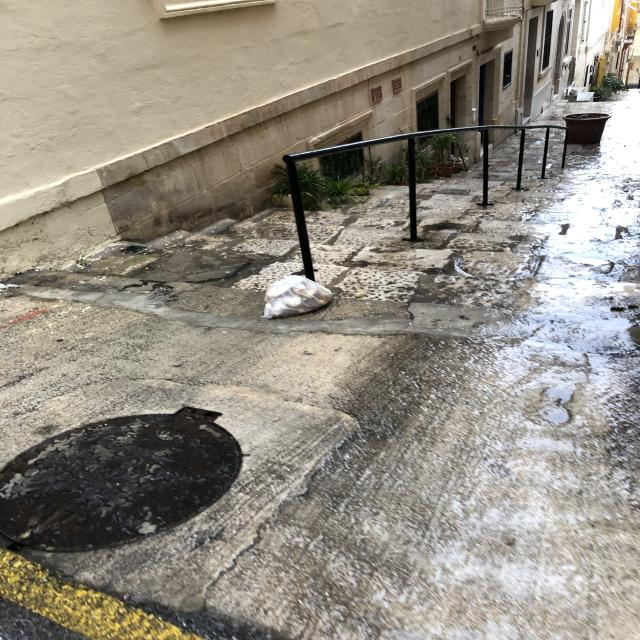Organic Waste -White Bag-: (264, 277, 340, 321)
